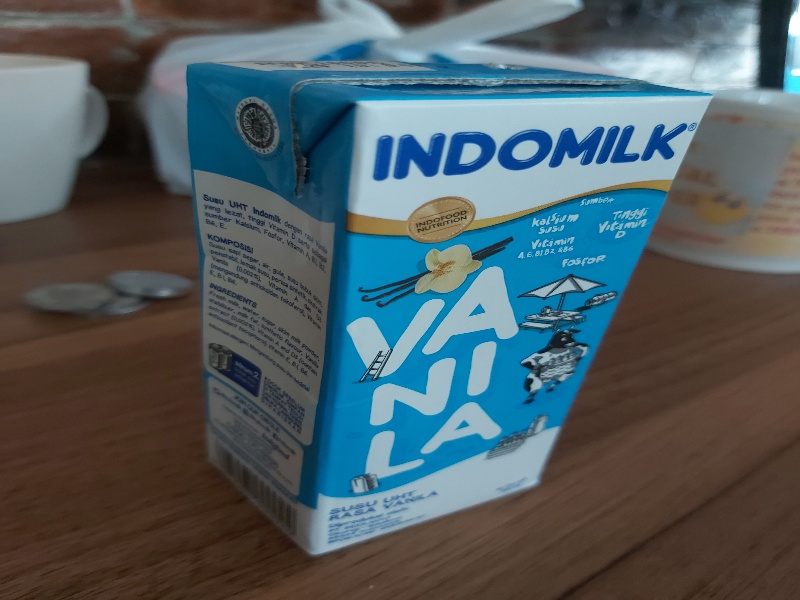vanilla: (183, 59, 716, 558)
